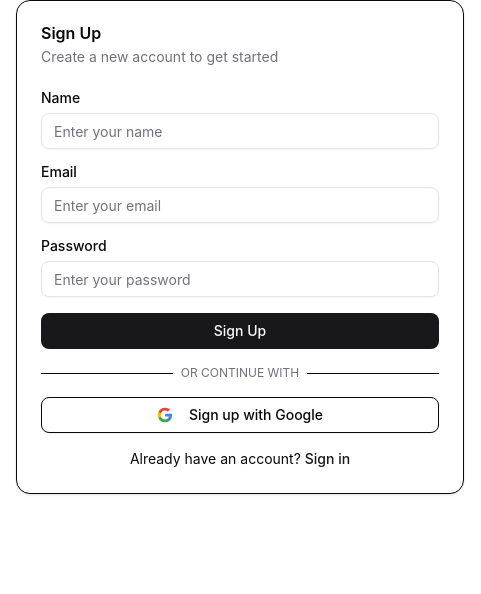
Test case: SignUpForm › handles Google sign up button click
What coordinates should you click on to do the following:
click the button "Sign up with Google"
I would click on:
 (240, 415)
Its box is [41,397,439,433].
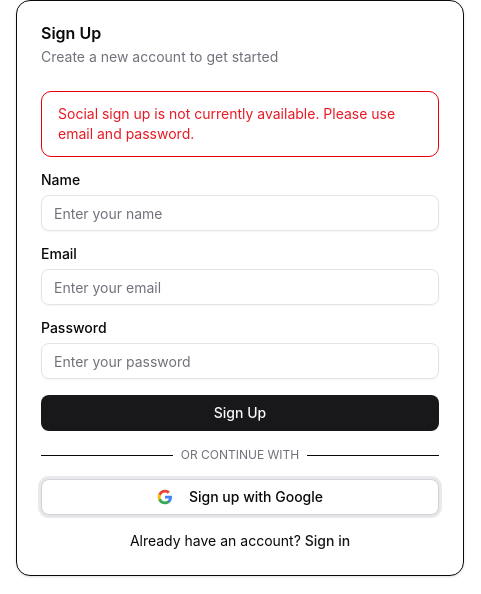
Check: the text "Social sign up is not currently available. Please use email and password" is shown, box [58,105,395,142]
